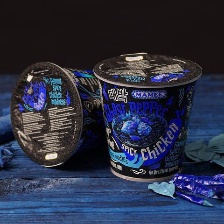paper_cup: (88, 46, 207, 188), (6, 57, 134, 171)
